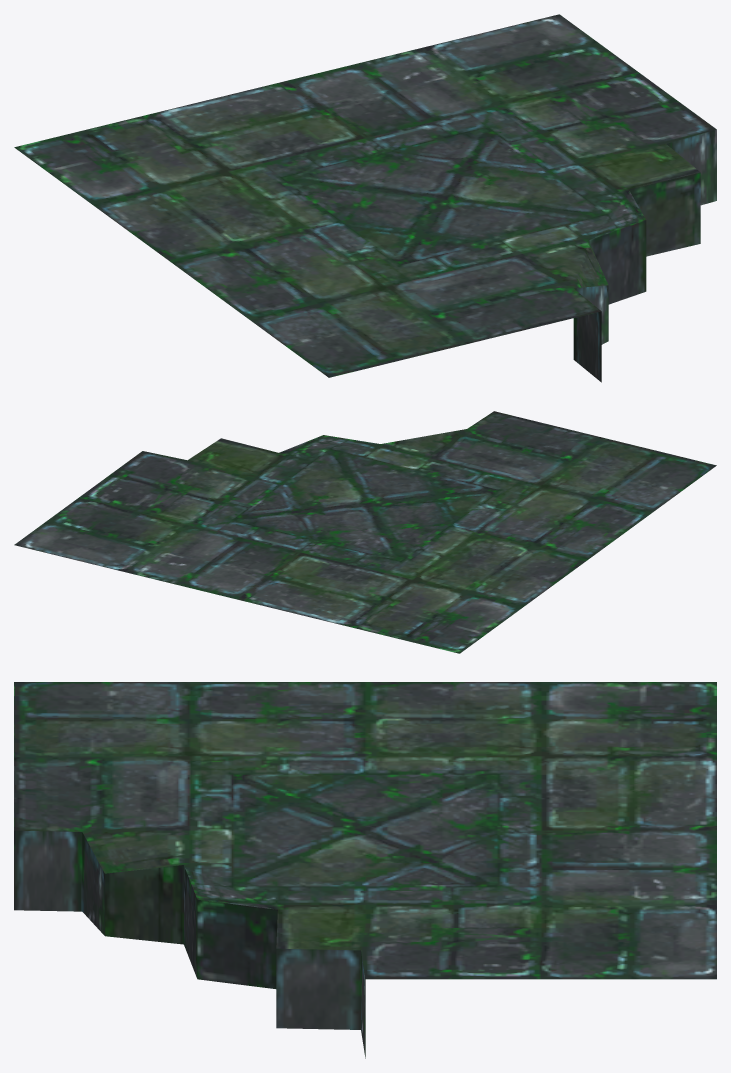
Rendered from stemple_floor_convex_03.fbx.
3 renders of one model, top to bottom at view 1: azimuth 30°, elevation 25°; view 2: azimuth 150°, elevation 25°; view 3: azimuth 270°, elevation 25°, orthographic. The views are drawn at different scales.
Visible parts, largest first — view 1: stemple_floor_convex_03-0; view 2: stemple_floor_convex_03-0; view 3: stemple_floor_convex_03-0.
Part boxes in pixels (box(x1,y1,x2,y2)): stemple_floor_convex_03-0: box(14, 14, 716, 382); stemple_floor_convex_03-0: box(14, 411, 716, 653); stemple_floor_convex_03-0: box(14, 682, 716, 1058).
Bounding box in the file's own units: 4 × 0.5 × 4.
